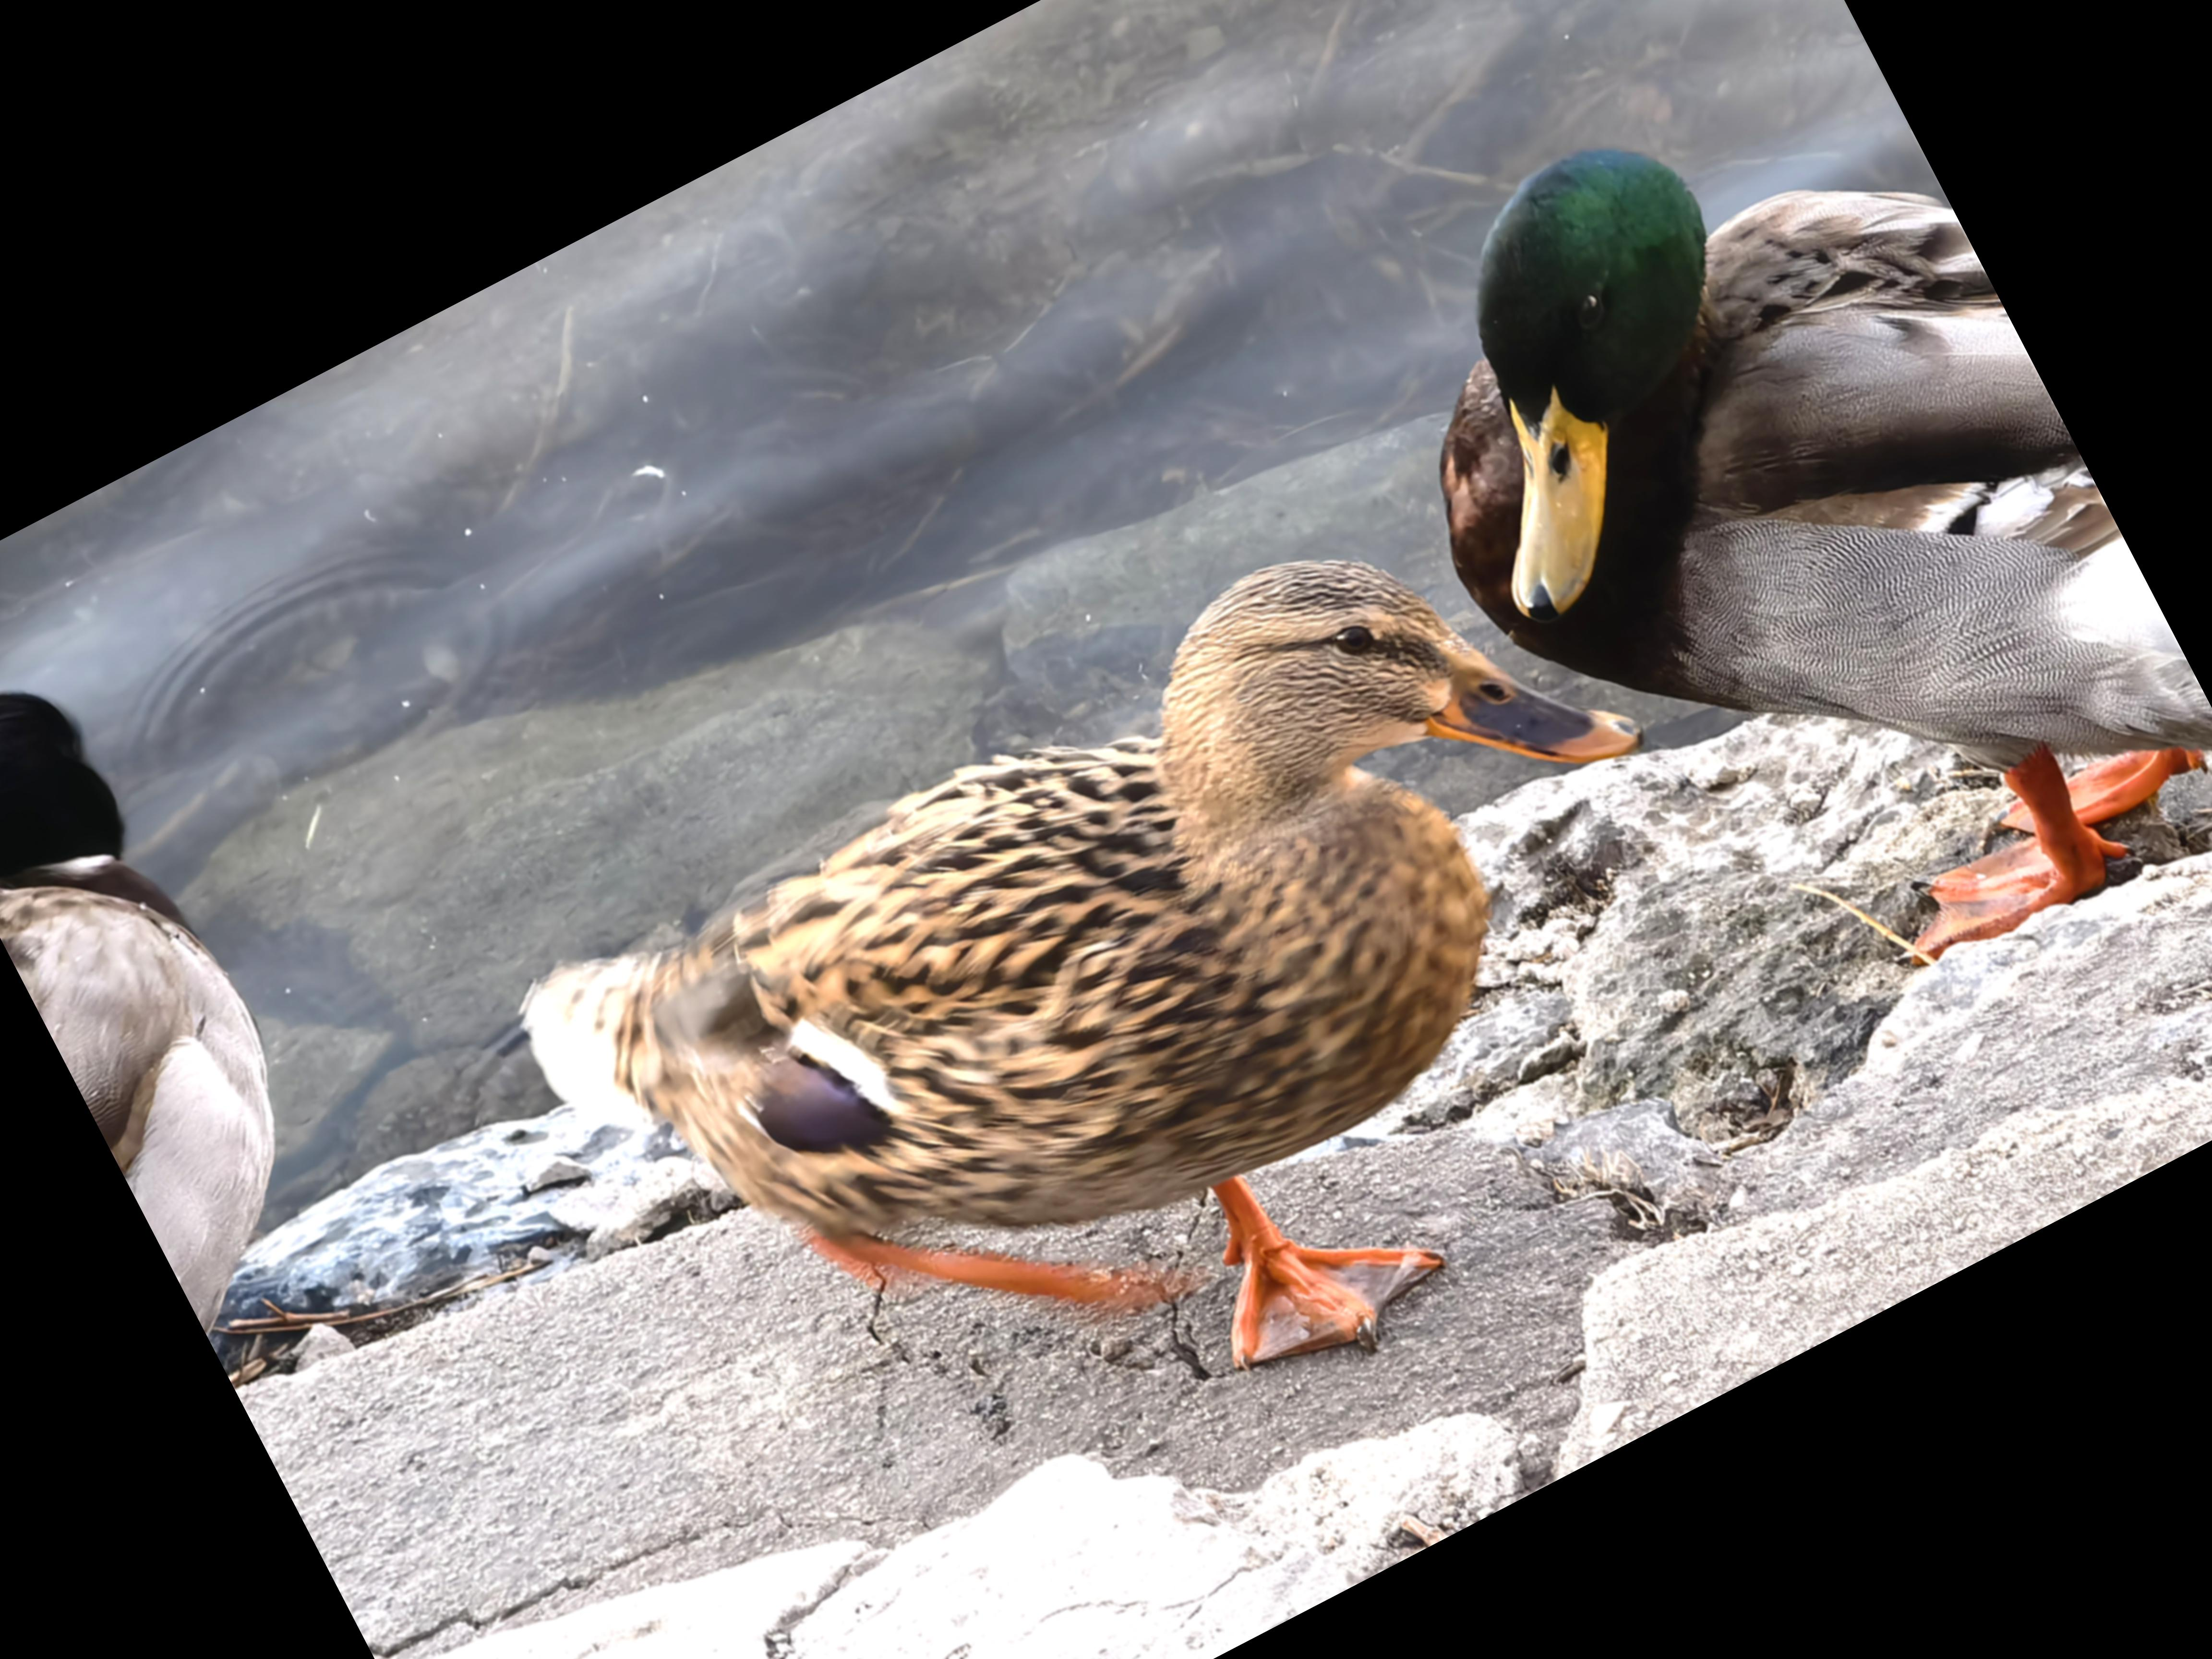duck: (413, 338, 1832, 1614), (1266, 0, 2212, 1096), (0, 599, 432, 1337)
